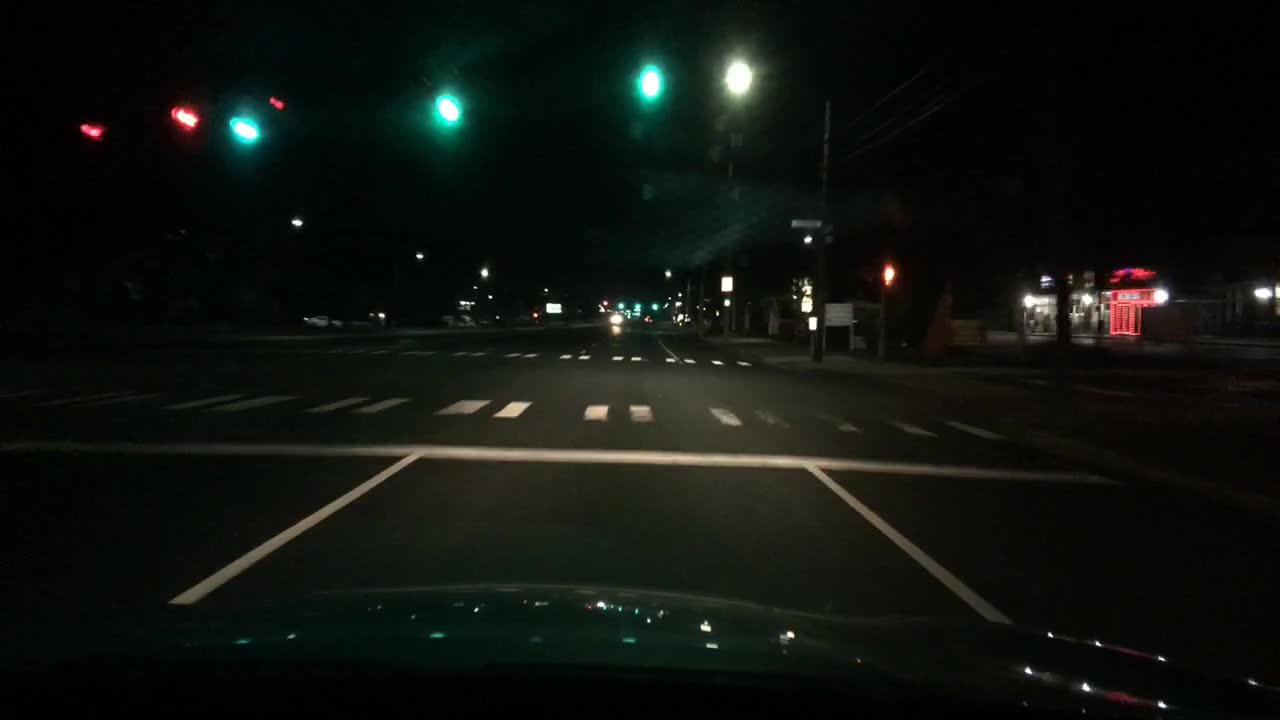car: (298, 312, 369, 336), (609, 310, 651, 327), (516, 306, 543, 326), (437, 310, 459, 331), (671, 307, 692, 329), (454, 310, 476, 329), (474, 312, 492, 327)
traffic light: (168, 98, 201, 160), (77, 113, 108, 165), (260, 91, 288, 148), (634, 47, 660, 106), (435, 77, 460, 126), (234, 94, 253, 143), (631, 299, 641, 314), (616, 297, 626, 312), (649, 297, 658, 312)
traffic sign: (791, 216, 822, 228), (719, 273, 732, 293)
